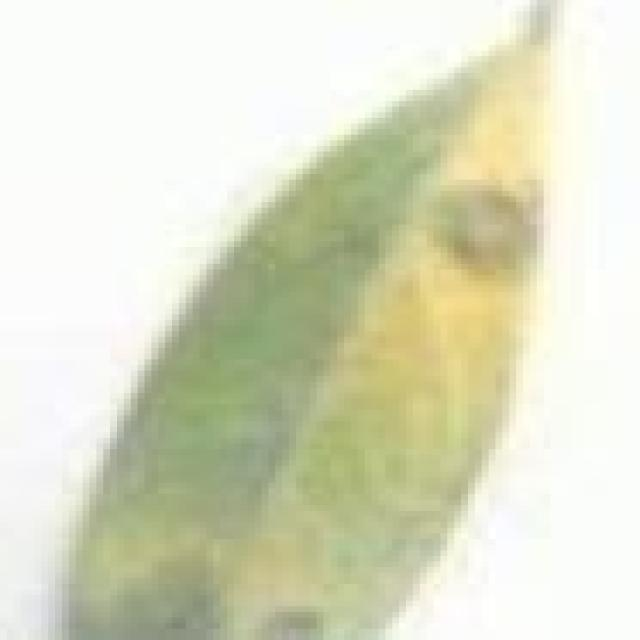Peacock Eye: (69, 6, 544, 634)
